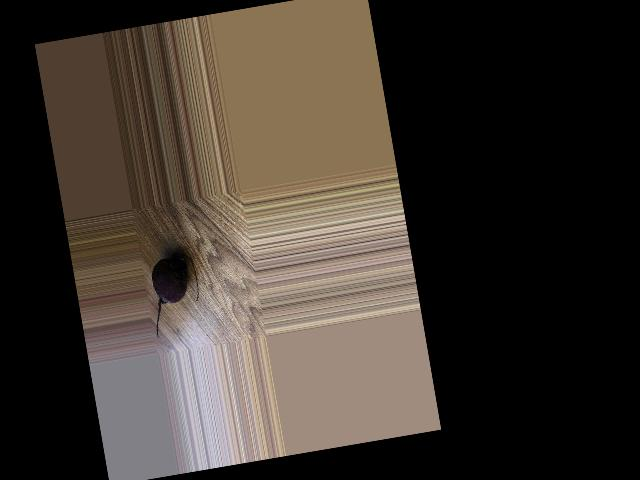beet: (144, 251, 205, 338)
